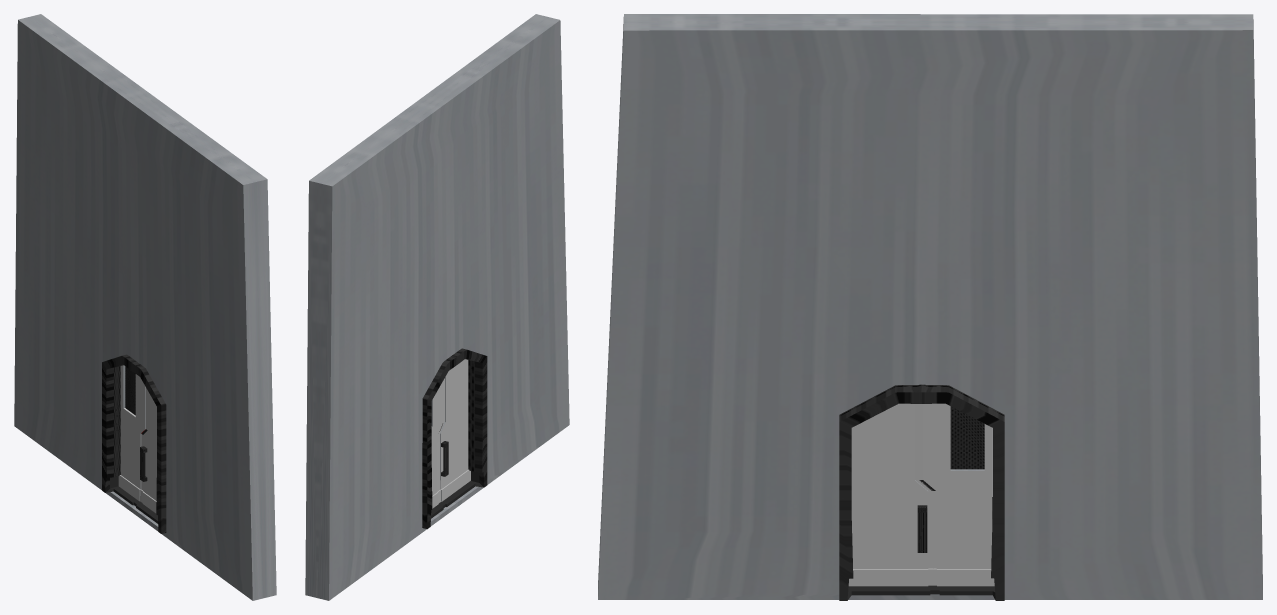
Rendered from SlidinDoor AirlockTextured .fbx.
3 views of the same model, side by side, from view 1: azimuth 30°, elevation 25°; view 2: azimuth 150°, elevation 25°; view 3: azimuth 270°, elevation 25° (orthographic). The views are drawn at different scales.
Parts seen in each view (by area): view 1: Door without keycard.025, Door without keycard.008, Door without keycard.010, Door without keycard.024; view 2: Door without keycard.025, Door without keycard.008, Door without keycard.024, Door without keycard.010; view 3: Door without keycard.025, Door without keycard.024, Door without keycard.010, Door without keycard.008.
Part boxes in pixels (bbox=[...]): Door without keycard.025: bbox=[14, 14, 276, 600]; Door without keycard.008: bbox=[102, 354, 166, 533]; Door without keycard.010: bbox=[118, 365, 147, 502]; Door without keycard.024: bbox=[140, 391, 156, 513]; Door without keycard.025: bbox=[305, 14, 569, 600]; Door without keycard.008: bbox=[422, 348, 487, 529]; Door without keycard.024: bbox=[438, 359, 470, 502]; Door without keycard.010: bbox=[431, 381, 443, 508]; Door without keycard.025: bbox=[598, 14, 1262, 599]; Door without keycard.024: bbox=[848, 403, 933, 586]; Door without keycard.010: bbox=[918, 403, 994, 586]; Door without keycard.008: bbox=[839, 384, 1004, 600].
Size of the model in its own units: 67.6 by 670 by 709.
